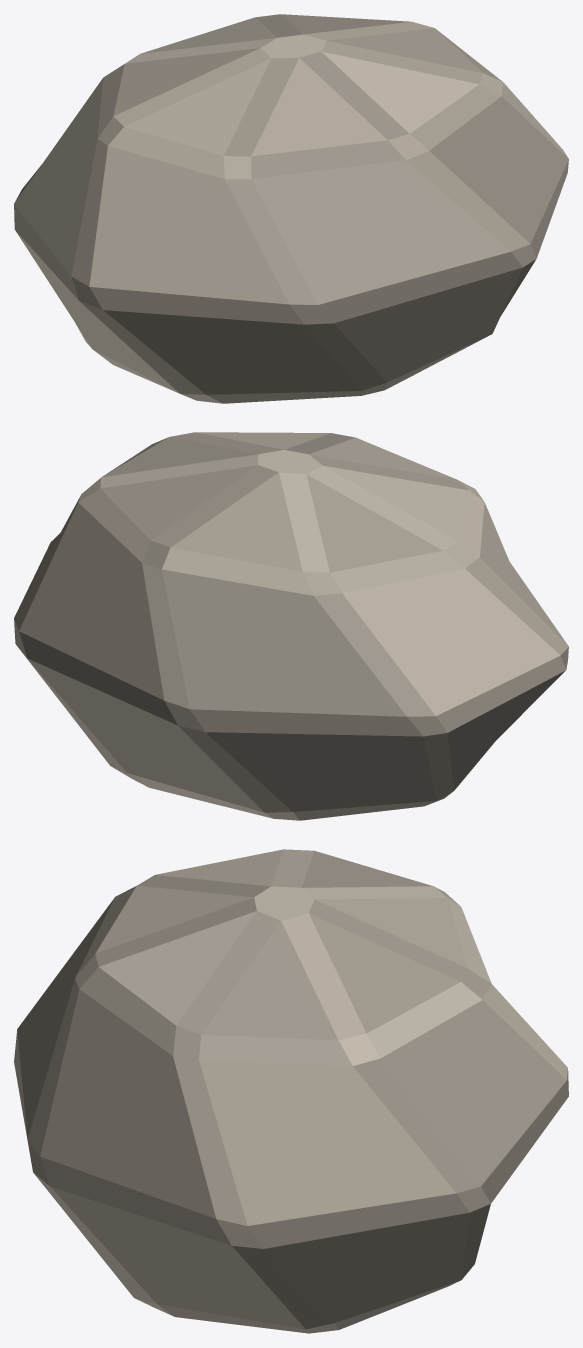
File: SM_Kit_pedra_a.fbx
3 views of the same model, one above another, from view 1: azimuth 30°, elevation 25°; view 2: azimuth 150°, elevation 25°; view 3: azimuth 270°, elevation 25° (orthographic). The views are drawn at different scales.
Parts seen in each view (by area): view 1: SM_Kit_pedra_a; view 2: SM_Kit_pedra_a; view 3: SM_Kit_pedra_a.
Boxes of the visible parts, left/top/right/bottom form: SM_Kit_pedra_a: left=14, top=14, right=568, bottom=403; SM_Kit_pedra_a: left=14, top=432, right=568, bottom=820; SM_Kit_pedra_a: left=14, top=849, right=568, bottom=1333.
Size of what is drawn, in the model's own units: 215 by 133 by 176.
